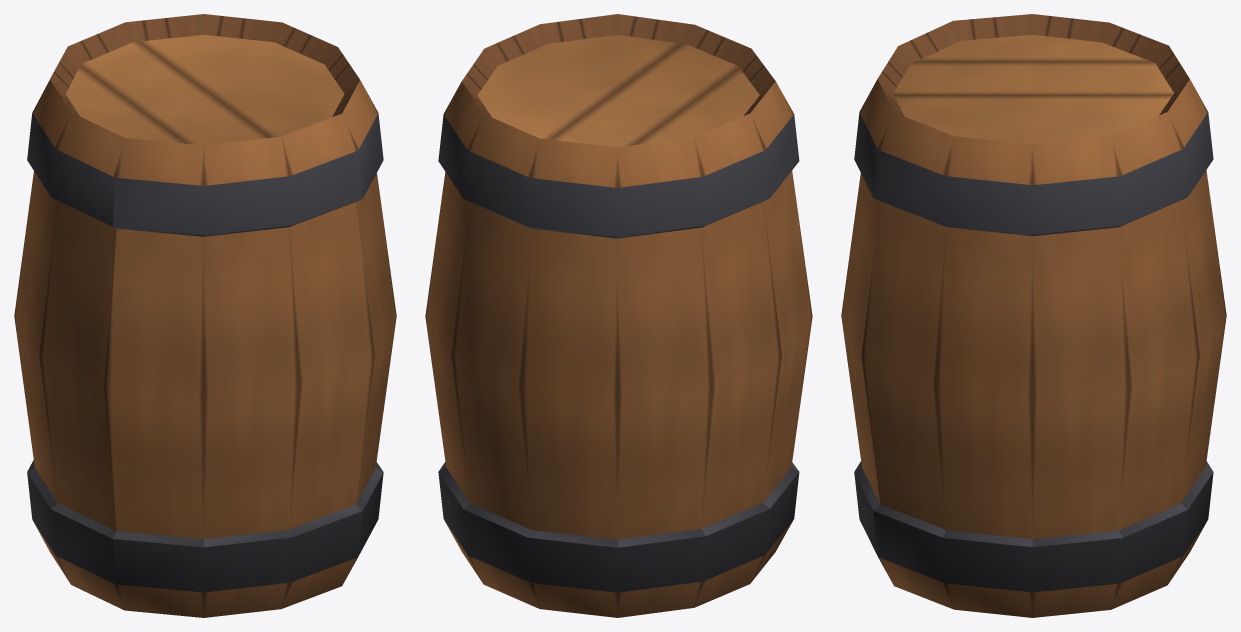
File: prop_barrel_01.glb
3 views of the same model, side by side, from view 1: azimuth 30°, elevation 25°; view 2: azimuth 150°, elevation 25°; view 3: azimuth 270°, elevation 25° (orthographic).
Parts seen in each view (by area): view 1: prop_barrel_01; view 2: prop_barrel_01; view 3: prop_barrel_01.
Boxes of the visible parts, left/top/right/bottom form: prop_barrel_01: left=14, top=14, right=396, bottom=617; prop_barrel_01: left=425, top=14, right=812, bottom=617; prop_barrel_01: left=841, top=14, right=1226, bottom=617.
Size of the model in its own units: 0.7289 by 1 by 0.7376.
1 material, 1 textured.
